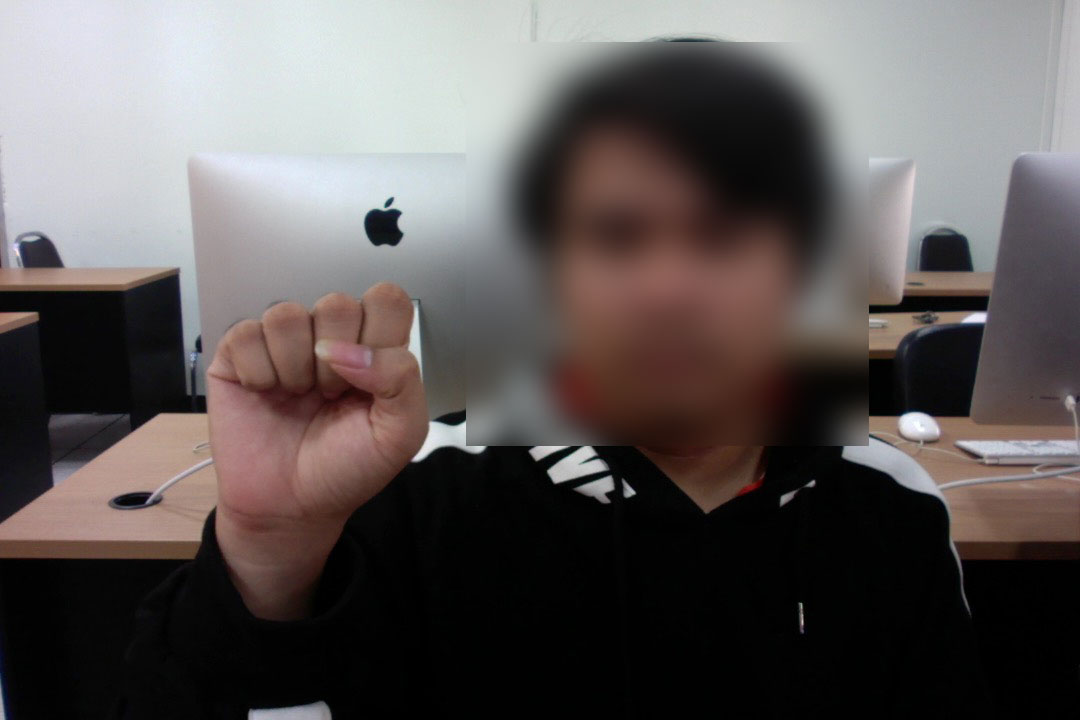sor: (196, 274, 433, 525)
